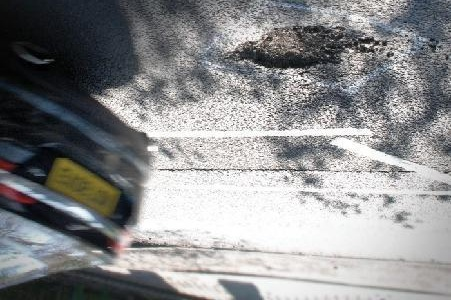pothole: (223, 23, 370, 71), (126, 236, 169, 249)
